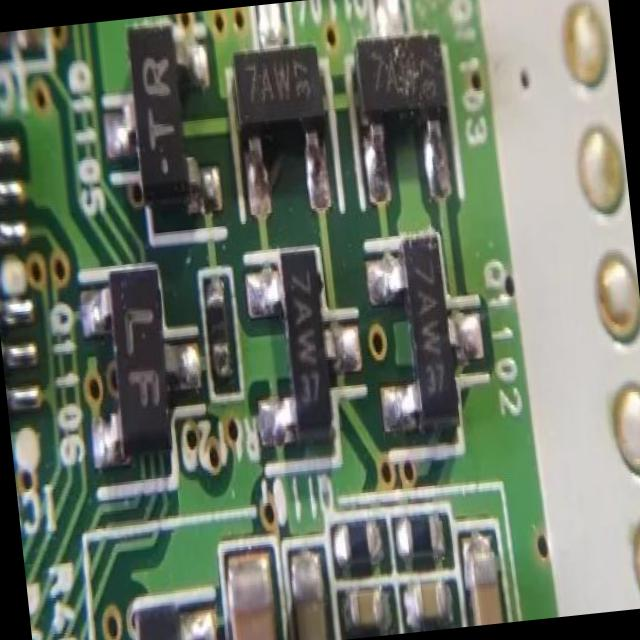capacitor: (220, 545, 288, 640), (286, 547, 328, 640), (464, 533, 504, 626), (402, 580, 452, 632), (345, 586, 391, 630)
resistor: (200, 275, 236, 372), (394, 501, 448, 563), (334, 514, 380, 566)
transistor: (217, 8, 338, 207), (103, 16, 213, 220), (86, 258, 192, 458), (366, 215, 471, 416), (349, 2, 457, 186), (253, 244, 339, 442)
